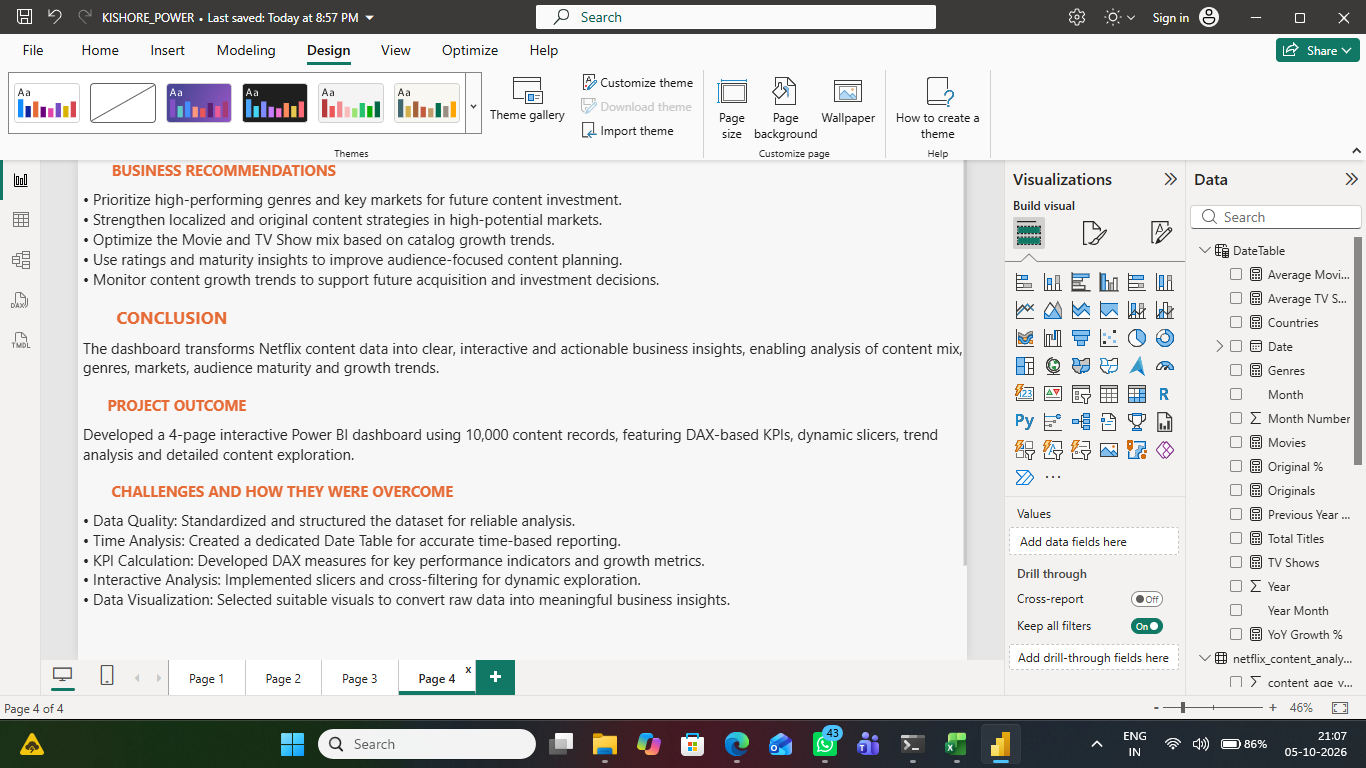

The page's visual inventory and layout, read from the dashboard file:
{"tool":"powerbi","page":{"name":"Page 4","canvas":[1920,1080],"ordinal":3},"visuals":[{"type":"textbox","box":[10.1,0,1909.9,967.6],"z":0}]}

Visuals, with their boxes on the page's 1920x1080 design canvas (x1, y1, x2, y2). These are canvas units, not pixel positions in the 1366x768 screenshot, which may show the page scaled, cropped or inside an application window:
textbox: (x1=10, y1=0, x2=1920, y2=968)
